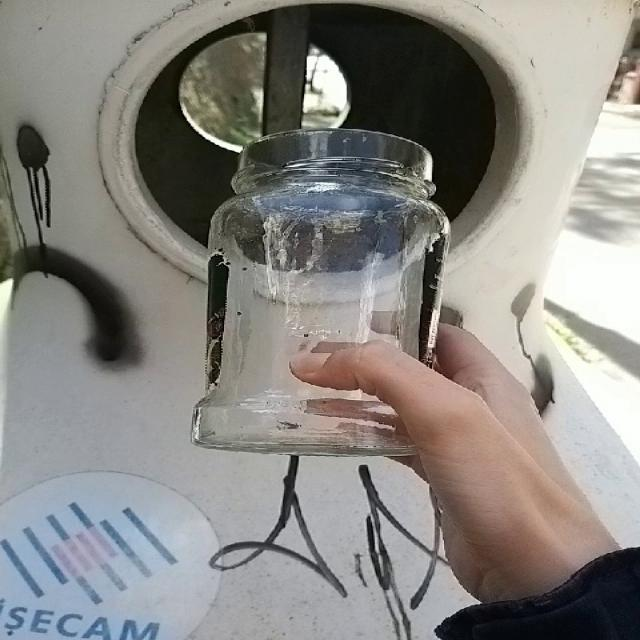glass: (192, 129, 449, 456)
